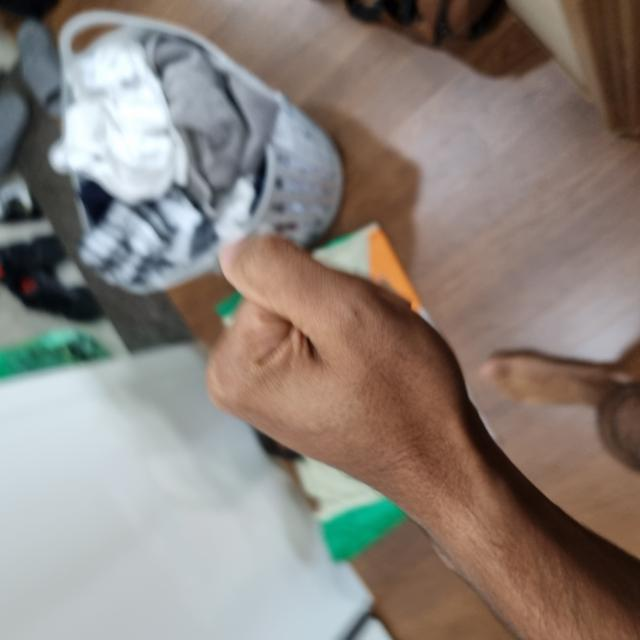Rock: (141, 196, 404, 467)
